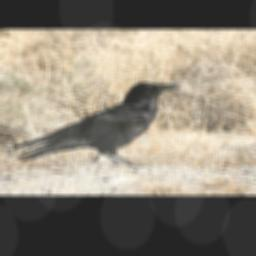Crow: (12, 81, 182, 167)
